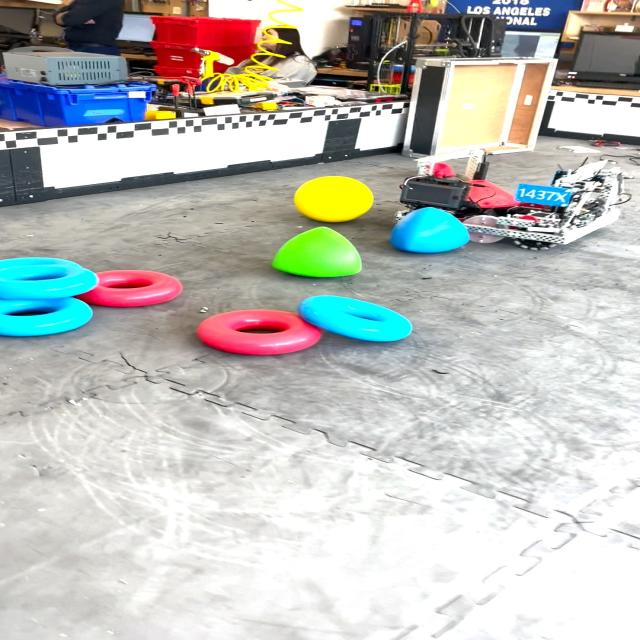Blue-Ring: (298, 295, 413, 341), (0, 258, 98, 300), (0, 298, 93, 336)
Red-Ring: (198, 310, 322, 355), (76, 270, 182, 306)
